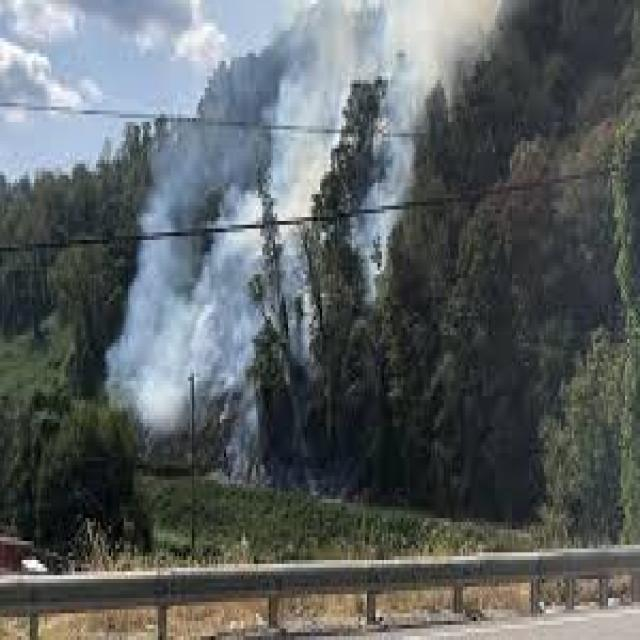Smoke: (148, 0, 408, 302), (103, 142, 250, 460), (245, 0, 505, 118)
